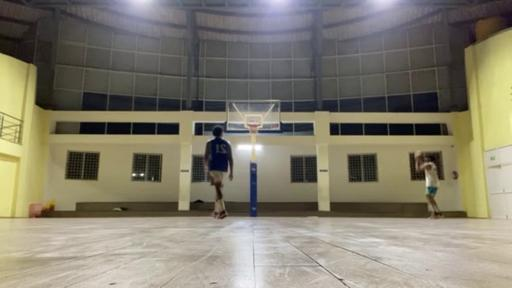ball: (414, 151, 422, 158)
human: (202, 126, 232, 217), (414, 153, 442, 219)
rim: (246, 124, 262, 136)
